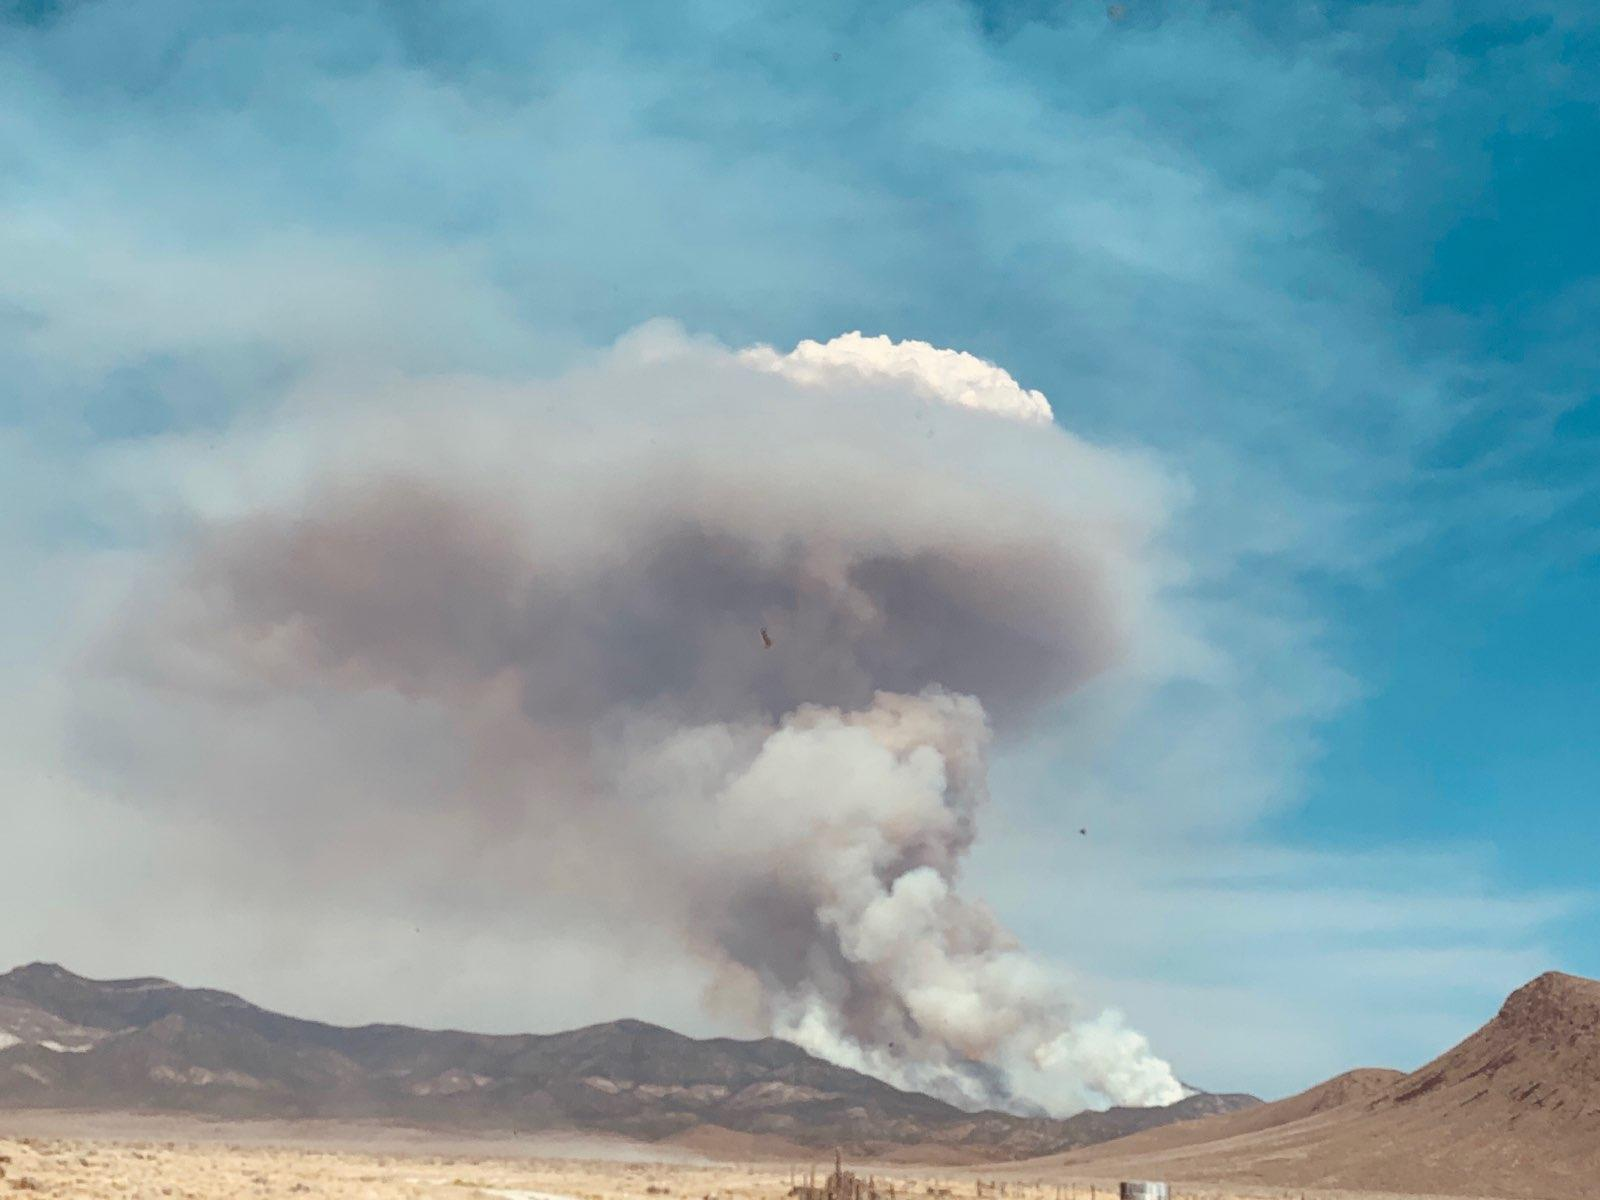smoke: (60, 321, 1187, 782), (680, 782, 1049, 1008), (869, 1006, 1199, 1100)
